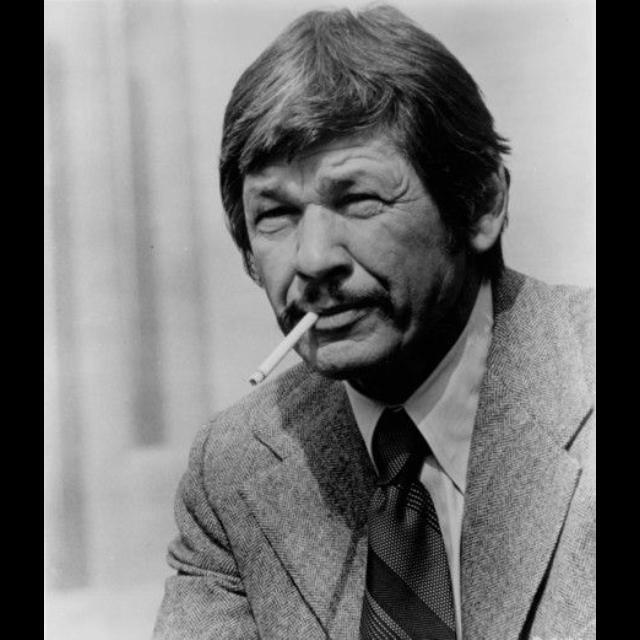rokok: (244, 312, 326, 390)
